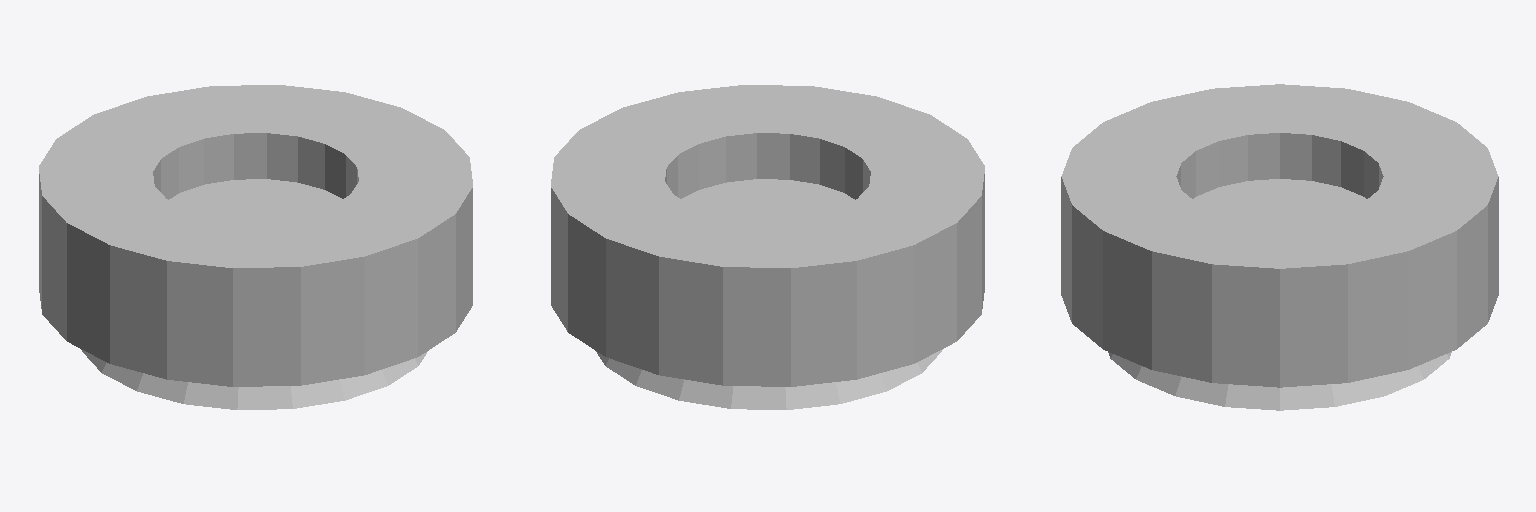
The model's file is stage3.obj.
The picture shows the model from 3 angles: view 1: azimuth 30°, elevation 25°; view 2: azimuth 150°, elevation 25°; view 3: azimuth 270°, elevation 25°; orthographic projection.
Parts seen in each view (by area): view 1: pCylinder7; view 2: pCylinder7; view 3: pCylinder7.
Part boxes in pixels (bbox=[...]): pCylinder7: bbox=[39, 85, 472, 409]; pCylinder7: bbox=[551, 85, 984, 409]; pCylinder7: bbox=[1061, 84, 1498, 410].
Size of the model in its own units: 18.71 by 7.5 by 18.71.